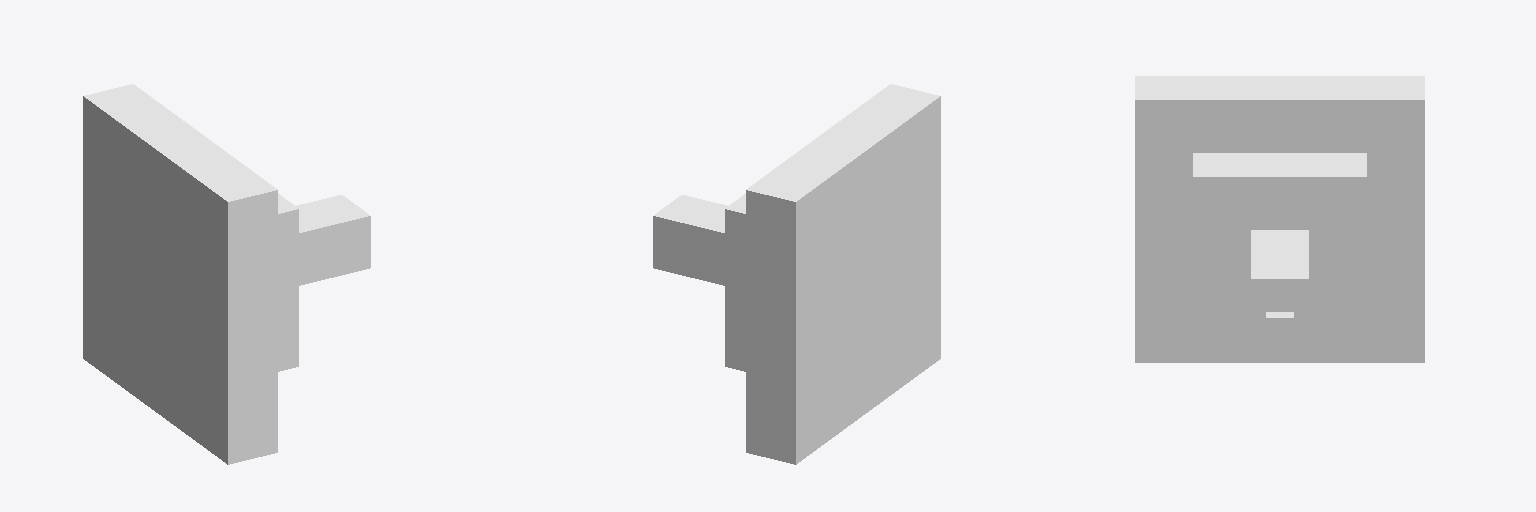
The model's file is Node_Side.obj.
3 renders of one model, left to right at view 1: azimuth 30°, elevation 25°; view 2: azimuth 150°, elevation 25°; view 3: azimuth 270°, elevation 25°, orthographic.
Parts seen in each view (by area): view 1: object 1; view 2: object 1; view 3: object 1.
Boxes of the visible parts, box(x1,y1,x2,y2) form: object 1: box(83, 84, 370, 464); object 1: box(653, 84, 940, 464); object 1: box(1135, 76, 1424, 362).
Size of the model in its own units: 1.6 by 2 by 2.